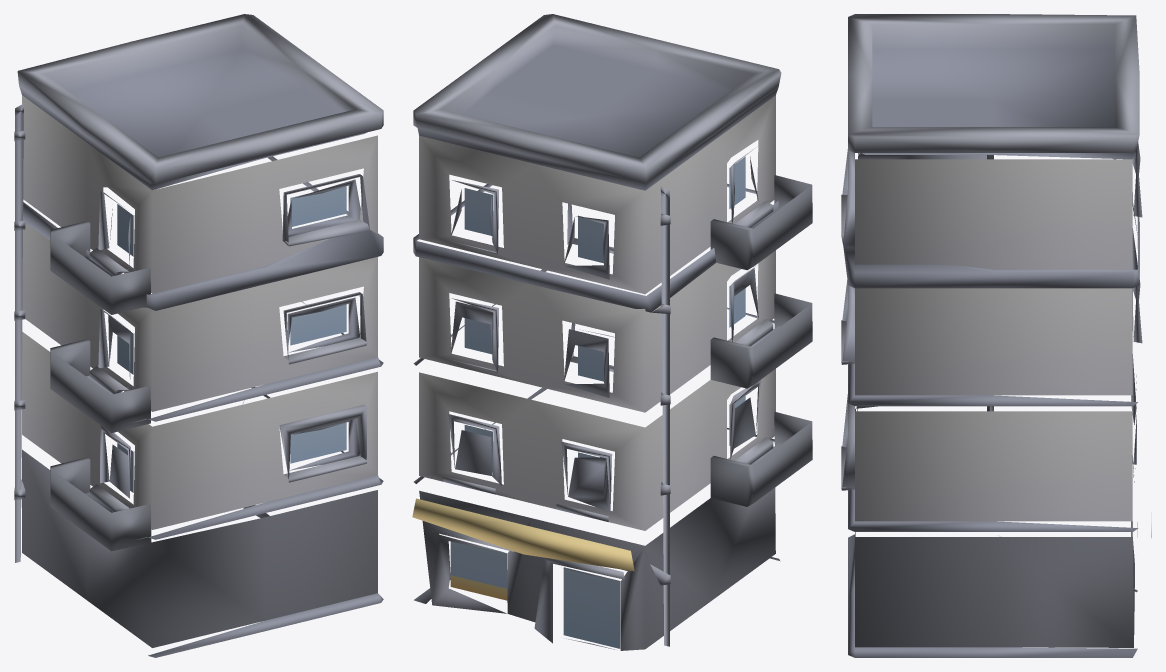
3 renders of one model, left to right at view 1: azimuth 30°, elevation 25°; view 2: azimuth 150°, elevation 25°; view 3: azimuth 270°, elevation 25°, orthographic. The views are drawn at different scales.
Bounding box in the file's own units: 7.7 × 13.44 × 7.16.
